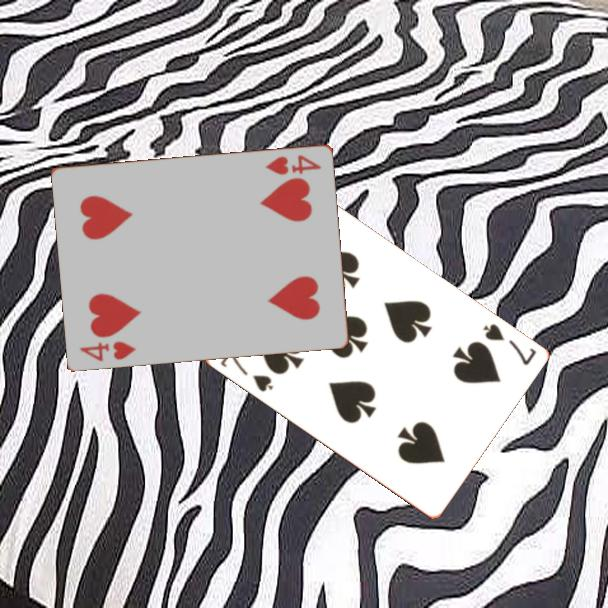h04: (77, 337, 140, 364), (262, 151, 324, 177)
s07: (216, 347, 276, 395), (479, 320, 539, 368)
